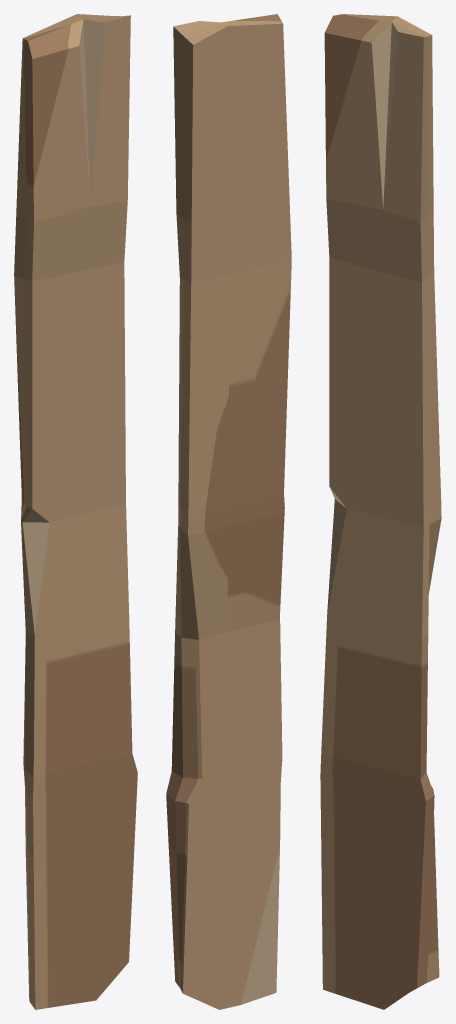
The model's file is SM_Wooden_Plank_A.gltf.
3 renders of one model, left to right at view 1: azimuth 30°, elevation 25°; view 2: azimuth 210°, elevation 25°; view 3: azimuth 330°, elevation 25°, orthographic.
Visible parts, largest first — view 1: SM_Wooden_Plank_A; view 2: SM_Wooden_Plank_A; view 3: SM_Wooden_Plank_A.
Boxes of the visible parts, bbox=[...] form: SM_Wooden_Plank_A: bbox=[14, 14, 137, 1009]; SM_Wooden_Plank_A: bbox=[166, 14, 291, 1009]; SM_Wooden_Plank_A: bbox=[320, 14, 441, 1009].
Size of the model in its own units: 0.2306 by 2 by 0.0688.
Materials: 1 (1 with a texture image).
